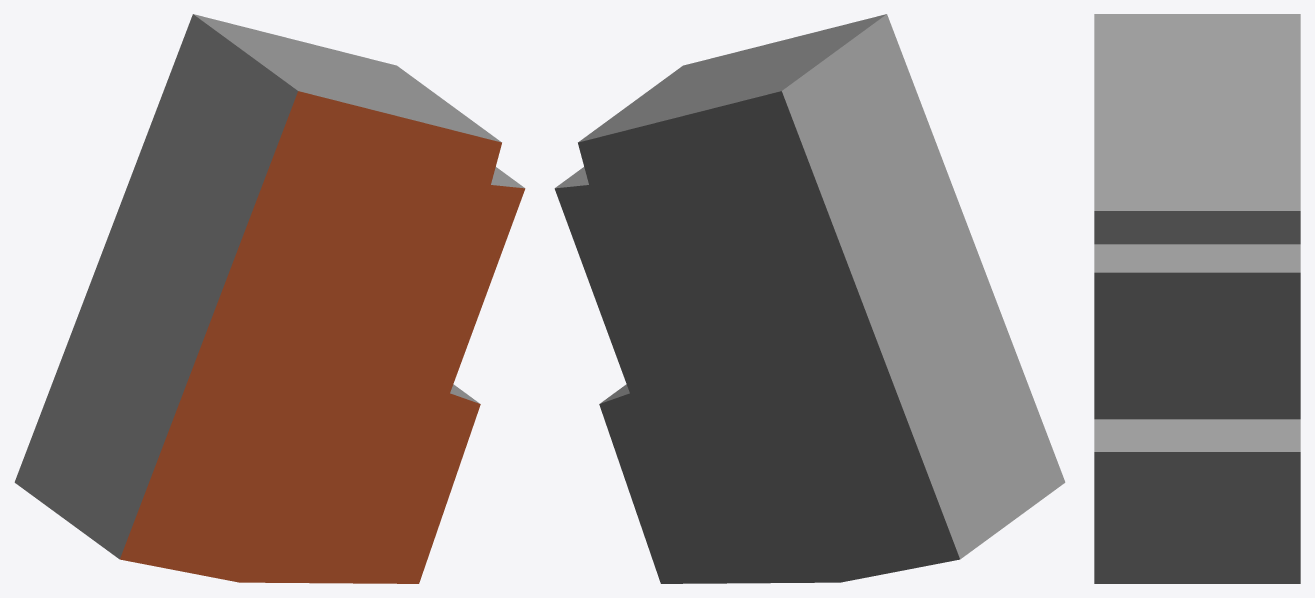
The model's file is construction_0888_assumed_A_Casa_h6m.obj.
The picture shows the model from 3 angles, left to right: view 1: azimuth 30°, elevation 25°; view 2: azimuth 150°, elevation 25°; view 3: azimuth 270°, elevation 25°; orthographic projection. The views are drawn at different scales.
Parts seen in each view (by area): view 1: construction_0888_assumed_A_Casa; view 2: construction_0888_assumed_A_Casa; view 3: construction_0888_assumed_A_Casa.
Part boxes in pixels (left/top/right/bottom): construction_0888_assumed_A_Casa: left=14, top=14, right=525, bottom=583; construction_0888_assumed_A_Casa: left=554, top=14, right=1065, bottom=583; construction_0888_assumed_A_Casa: left=1094, top=14, right=1300, bottom=583.
Size of the model in its own units: 13.35 by 16.43 by 6.
